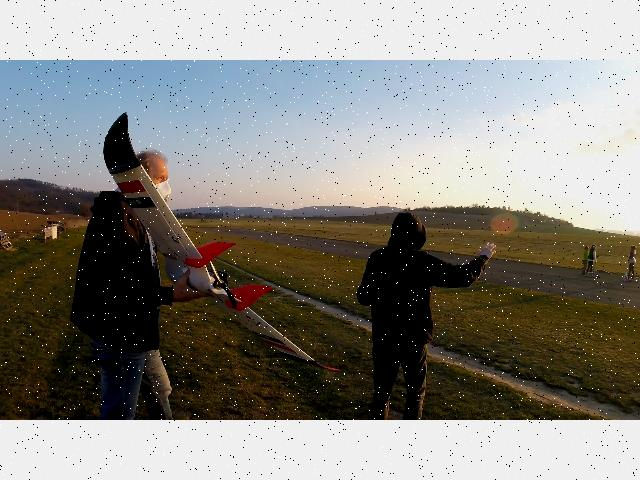Anti-Drone: (95, 106, 341, 374)
